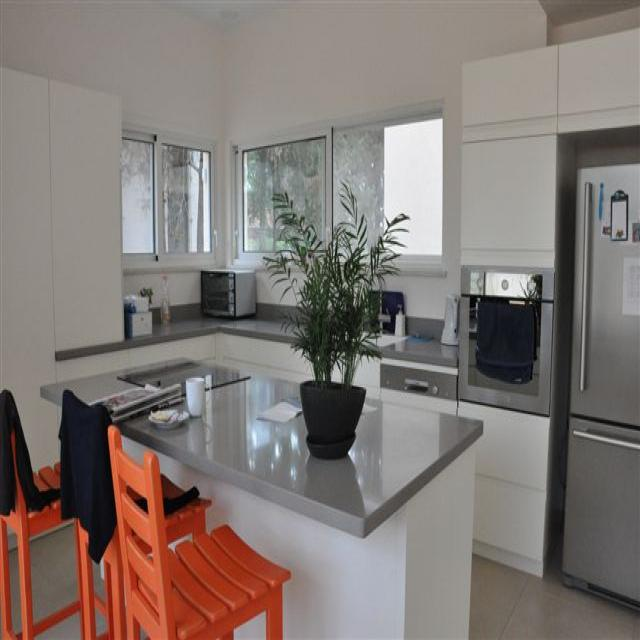chair: (109, 423, 296, 640), (60, 396, 211, 634), (1, 388, 81, 640)
dining table: (40, 357, 486, 640)
